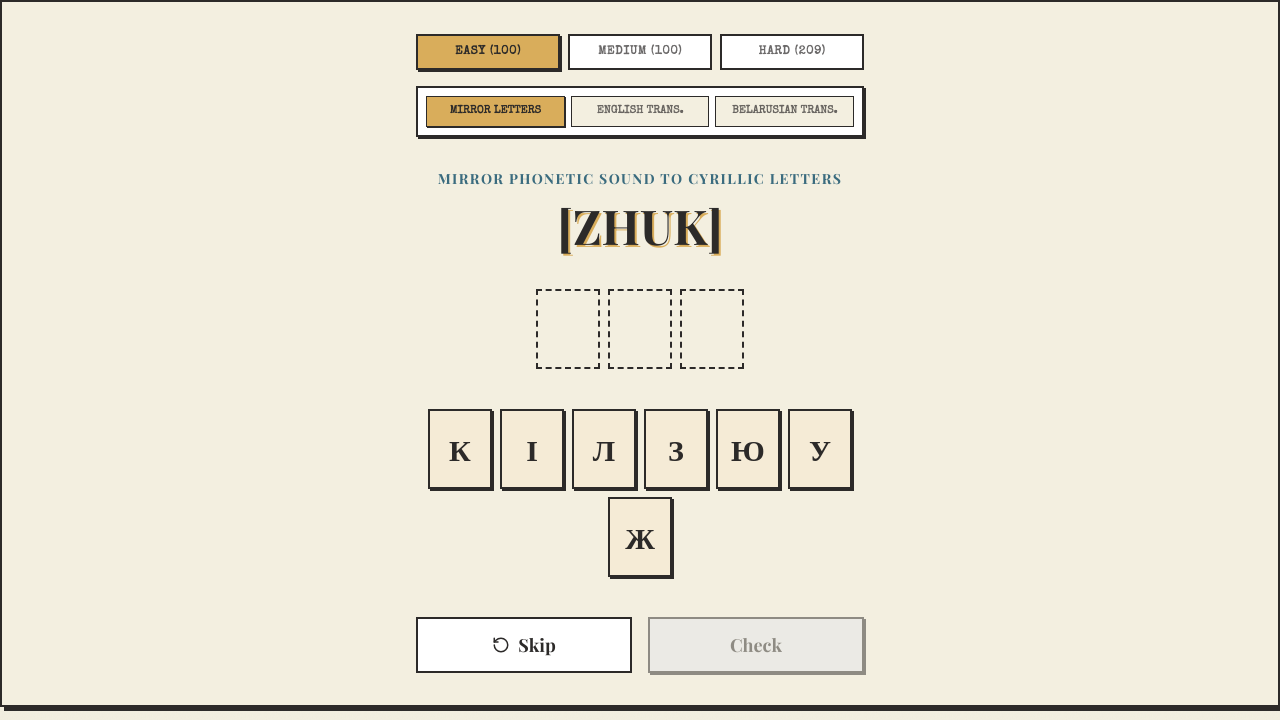
Test case: BuildingTrainer Component › switches to Belarusian Trans. mode and updates prompt label
The width and height of the screenshot is (1280, 720).
What coordinates should you click on to do the following:
click the button "Belarusian Trans."
I would click on:
 (785, 111)
Its box is [715,96,854,126].
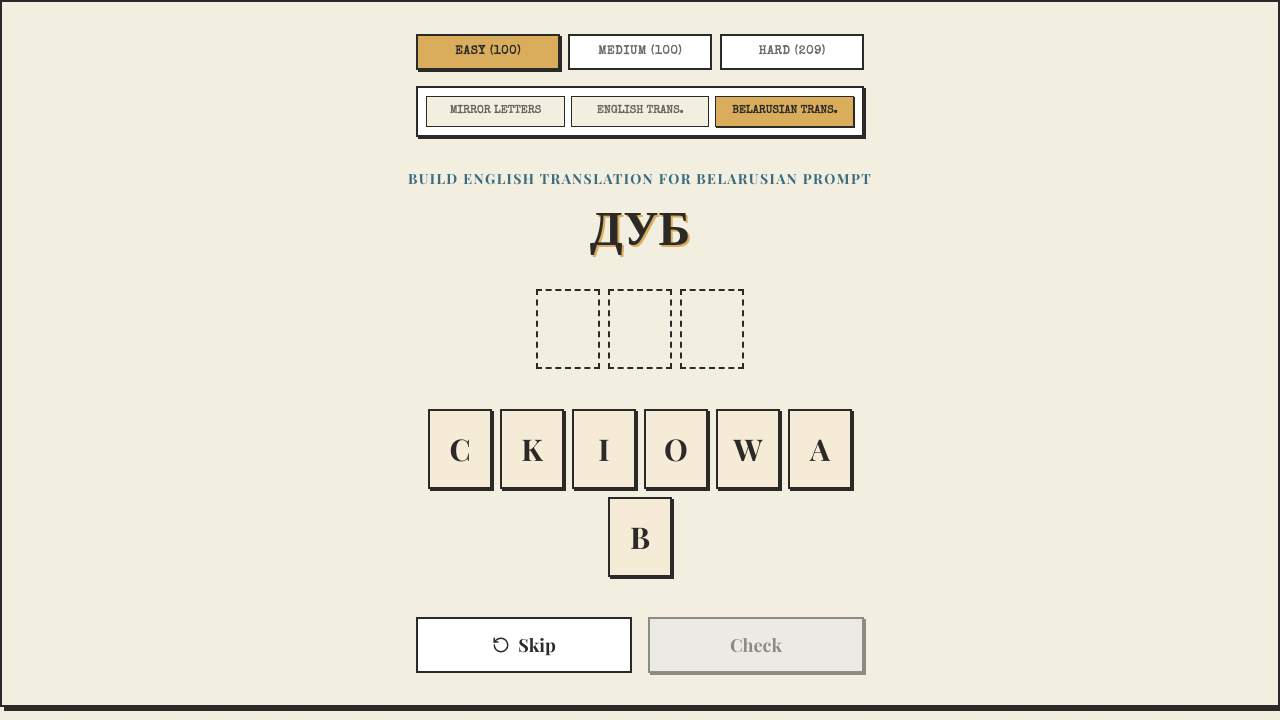
Expected: the heading "Build English translation for Belarusian prompt" is shown, [408,168,872,188]
